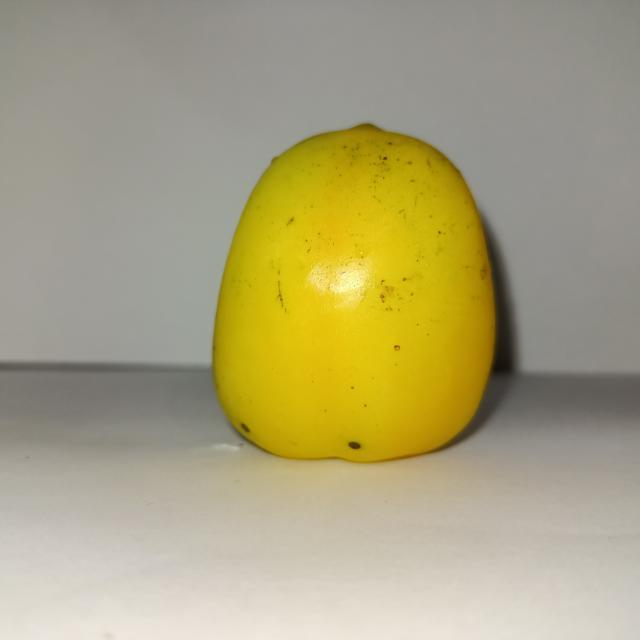Red: (210, 121, 498, 463)
